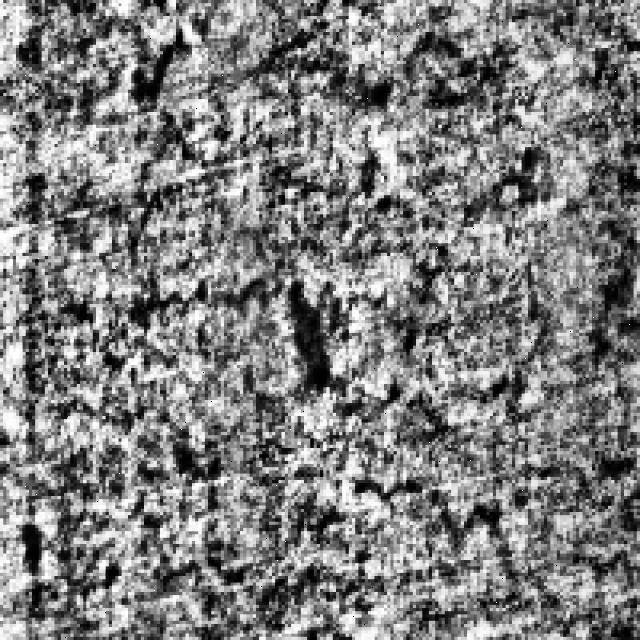Pitted_Surface: (93, 134, 637, 416), (349, 426, 637, 634)
